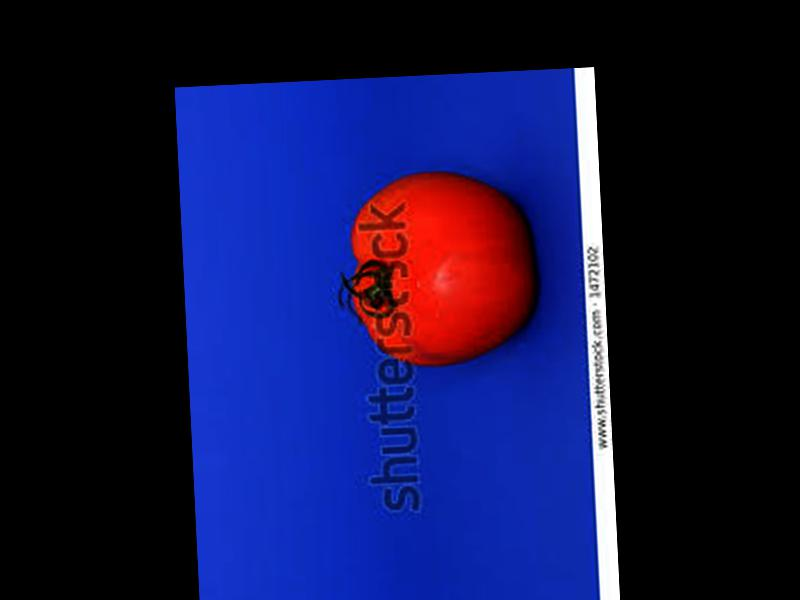Tomato: (344, 164, 537, 367)
